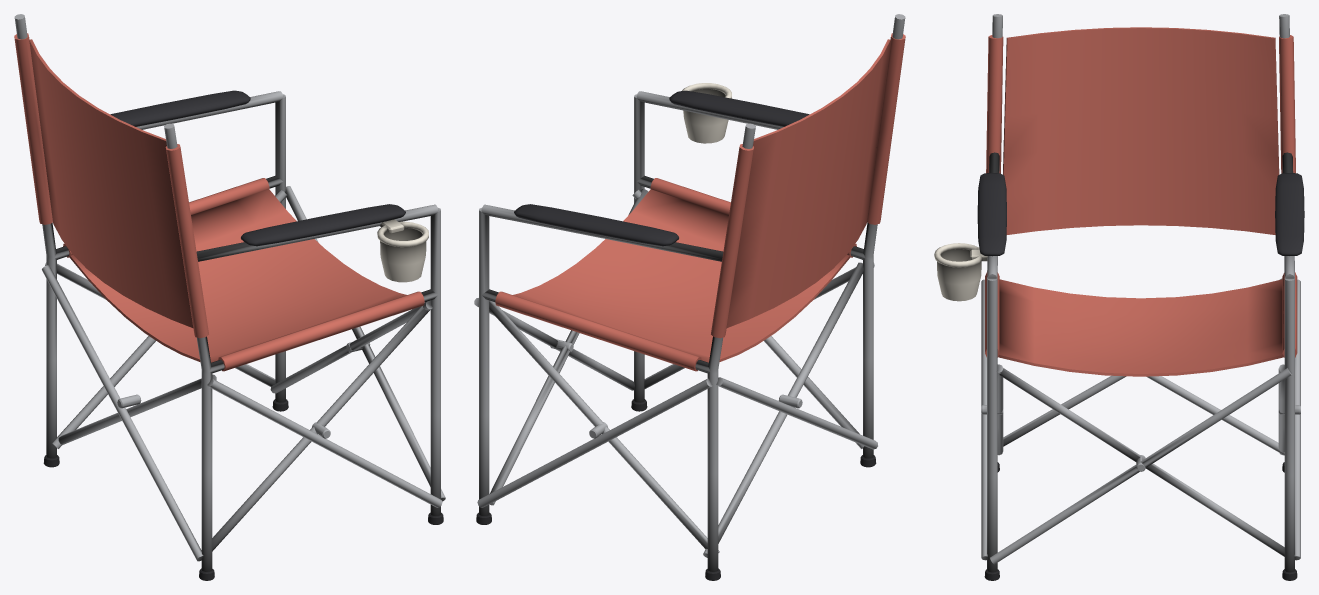
File: junk_chair_fold.glb
3 renders of one model, left to right at view 1: azimuth 30°, elevation 25°; view 2: azimuth 150°, elevation 25°; view 3: azimuth 270°, elevation 25°, orthographic. The views are drawn at different scales.
Visible parts, largest first — view 1: PART; view 2: PART; view 3: PART.
Part boxes in pixels (x1=…): PART: x1=14, y1=14, x2=445, y2=580; PART: x1=474, y1=14, x2=905, y2=580; PART: x1=934, y1=14, x2=1304, y2=580.
Size of the model in its own units: 0.5852 by 0.8814 by 0.672.
